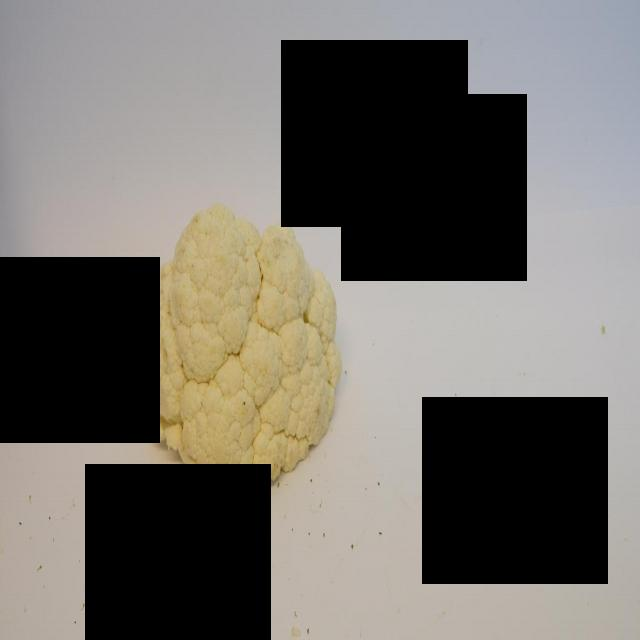cauliflower: (137, 201, 343, 498)
